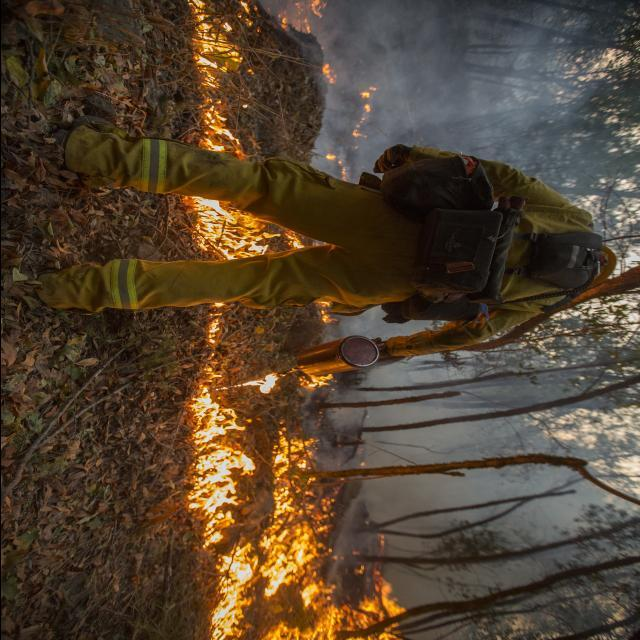Fire: (184, 376, 407, 640), (185, 4, 368, 254)
